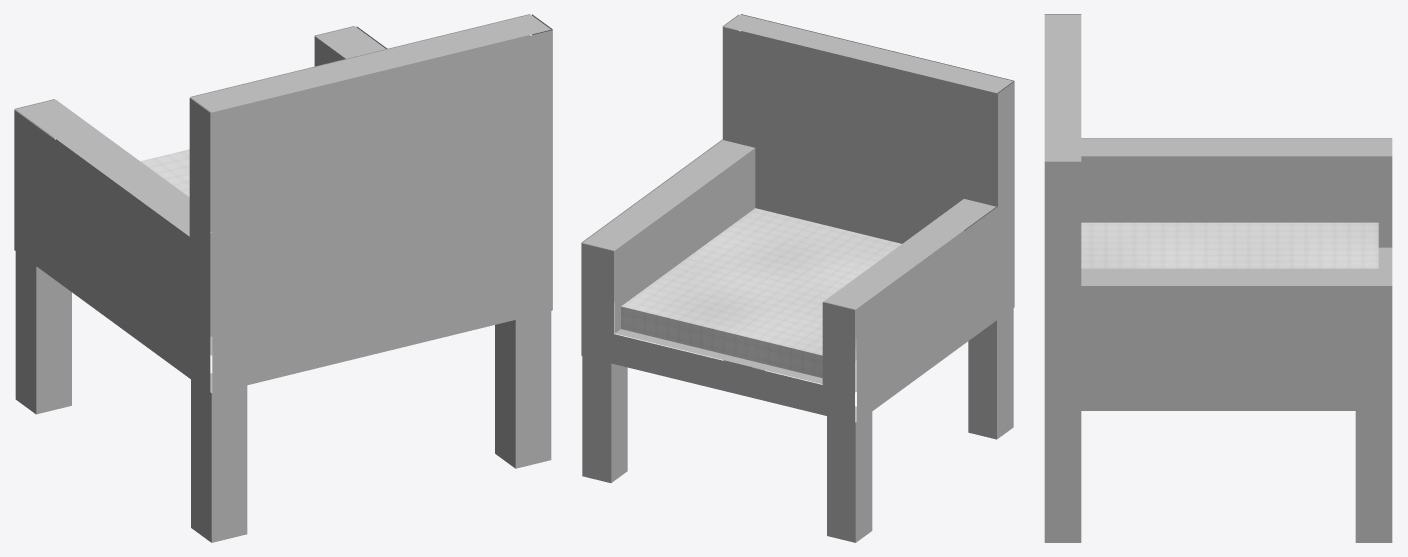
Rendered from armchair.obj.
The picture shows the model from 3 angles, left to right: view 1: azimuth 30°, elevation 25°; view 2: azimuth 150°, elevation 25°; view 3: azimuth 270°, elevation 25°; orthographic projection. The views are drawn at different scales.
Parts seen in each view (by area): view 1: armchair; view 2: armchair; view 3: armchair.
Boxes of the visible parts, x1,y1,x2,y2 form: armchair: [14, 14, 552, 542]; armchair: [581, 14, 1014, 542]; armchair: [1044, 14, 1392, 542].
Size of the model in its own units: 0.766 by 0.92 by 0.766.
